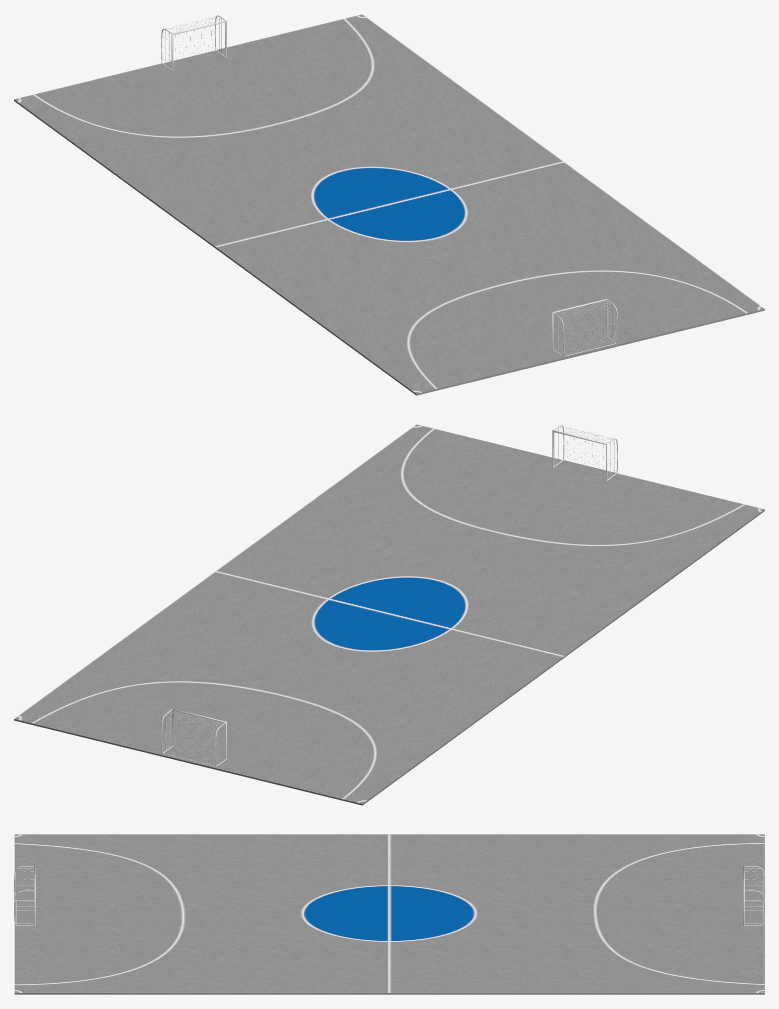
3 renders of one model, top to bottom at view 1: azimuth 30°, elevation 25°; view 2: azimuth 150°, elevation 25°; view 3: azimuth 270°, elevation 25°, orthographic. The views are drawn at different scales.
Visible parts, largest first — view 1: Football, Goal.001, Goal; view 2: Football, Goal, Goal.001; view 3: Football, Goal, Goal.001.
Boxes of the visible parts, box(x1,y1,x2,y2) form: Football: box(14, 14, 764, 395); Goal.001: box(161, 15, 226, 71); Goal: box(552, 299, 617, 356); Football: box(14, 424, 764, 805); Goal: box(552, 425, 617, 481); Goal.001: box(161, 708, 226, 766); Football: box(14, 834, 764, 994); Goal: box(14, 866, 35, 925); Goal.001: box(743, 866, 764, 925).
Size of the model in its own units: 20 by 2.17 by 40.04.
Materials: 2 (2 with a texture image).
